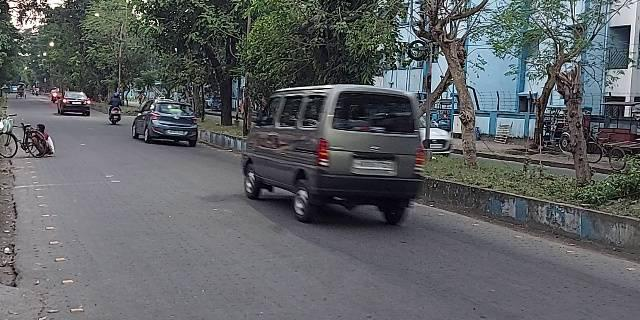Car: (135, 97, 200, 146), (62, 89, 92, 118)
Motorbike: (108, 90, 123, 126)
Van: (231, 86, 428, 221)
